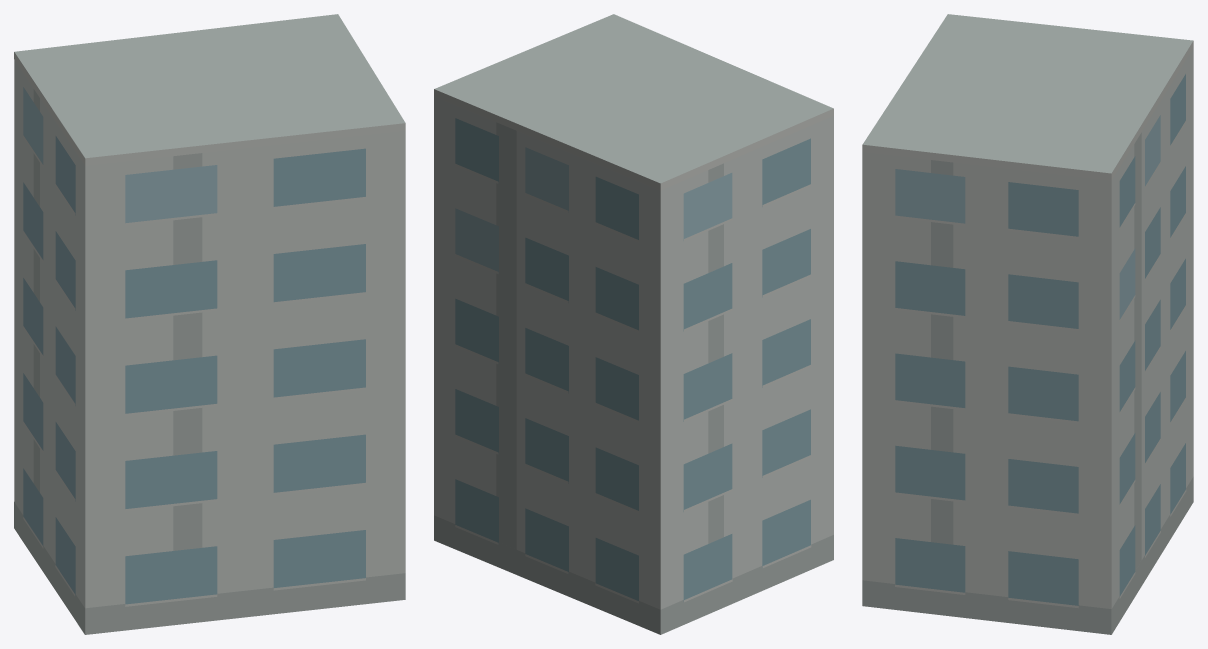
Rendered from survey-upis-32573962.glb.
The picture shows the model from 3 angles, left to right: view 1: azimuth 30°, elevation 25°; view 2: azimuth 150°, elevation 25°; view 3: azimuth 270°, elevation 25°; orthographic projection. The views are drawn at different scales.
Visible parts, largest first — view 1: survey-upis-32573962.tmp; view 2: survey-upis-32573962.tmp; view 3: survey-upis-32573962.tmp.
Boxes of the visible parts, left/top/right/bottom form: survey-upis-32573962.tmp: left=14, top=14, right=405, bottom=634; survey-upis-32573962.tmp: left=434, top=14, right=833, bottom=634; survey-upis-32573962.tmp: left=862, top=14, right=1193, bottom=634.
Bounding box in the file's own units: 11.31 × 15.25 × 9.93.
